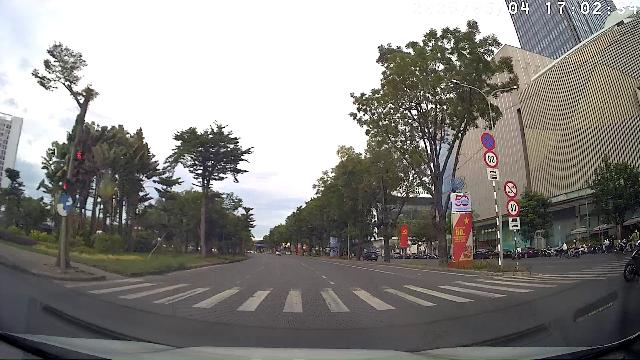127-toc-do-toi-da-60: (506, 199, 520, 217)
127-toc-do-toi-da-80: (484, 150, 498, 168)
130-cam-dung-va-do-xe: (480, 132, 496, 150)
